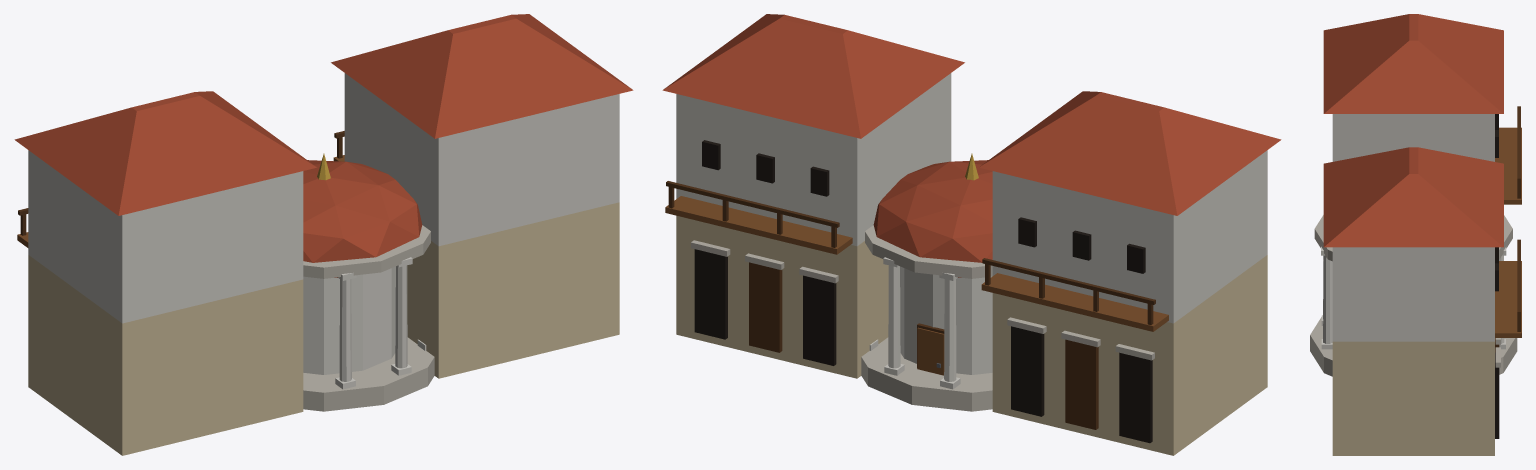
Rendered from angel_row.glb.
3 views of the same model, side by side, from view 1: azimuth 30°, elevation 25°; view 2: azimuth 150°, elevation 25°; view 3: azimuth 270°, elevation 25° (orthographic). The views are drawn at different scales.
Parts seen in each view (by area): view 1: angel_row; view 2: angel_row; view 3: angel_row.
Part boxes in pixels (x1,y1,x2,y2): angel_row: (14,14,633,455); angel_row: (662,14,1281,455); angel_row: (1310,14,1521,455).
Bounding box in the file's own units: 3.71 × 2.05 × 1.53.
